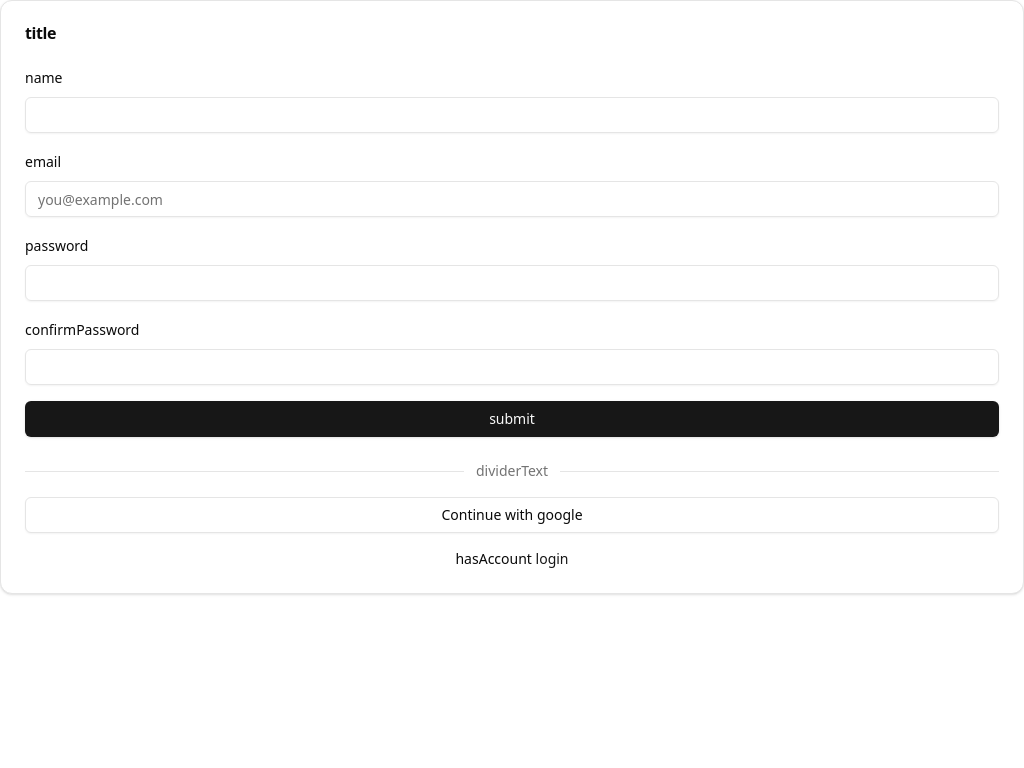
Test case: RegisterForm › shows error when passwords do not match
The image size is (1024, 768).
Type "user@example.com" into the field labelled "email" at (512, 199), box 25,181 -> 999,217
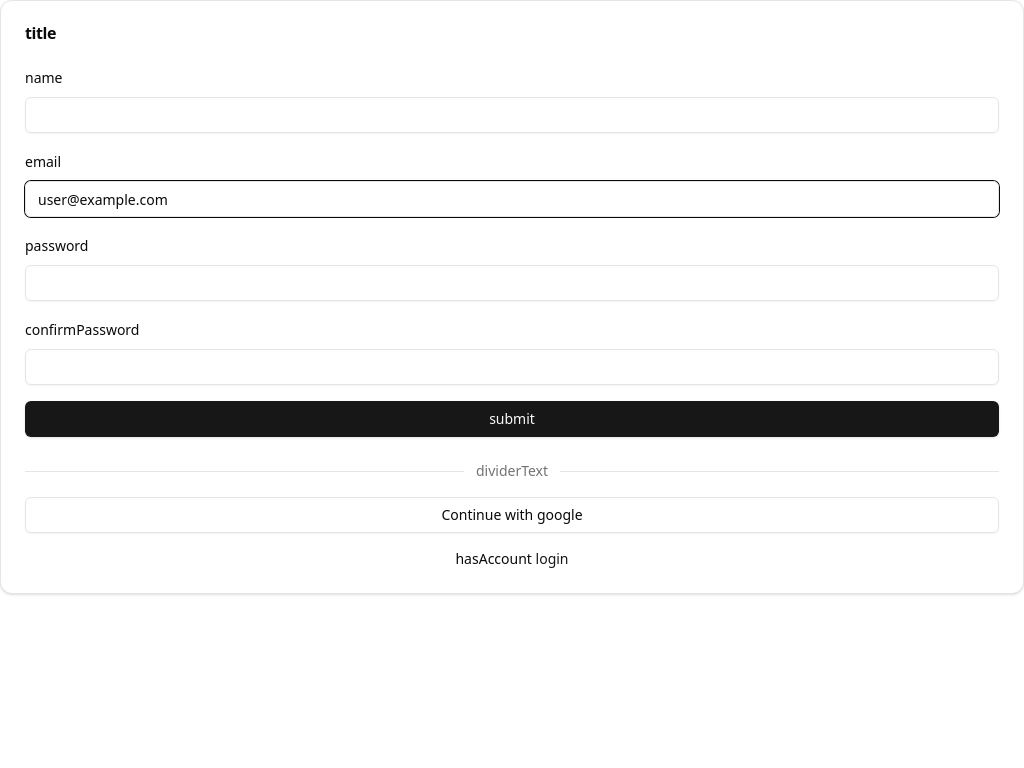
Type "StrongPass1!" into the password field labelled "password" at (512, 283), box 25,265 -> 999,301
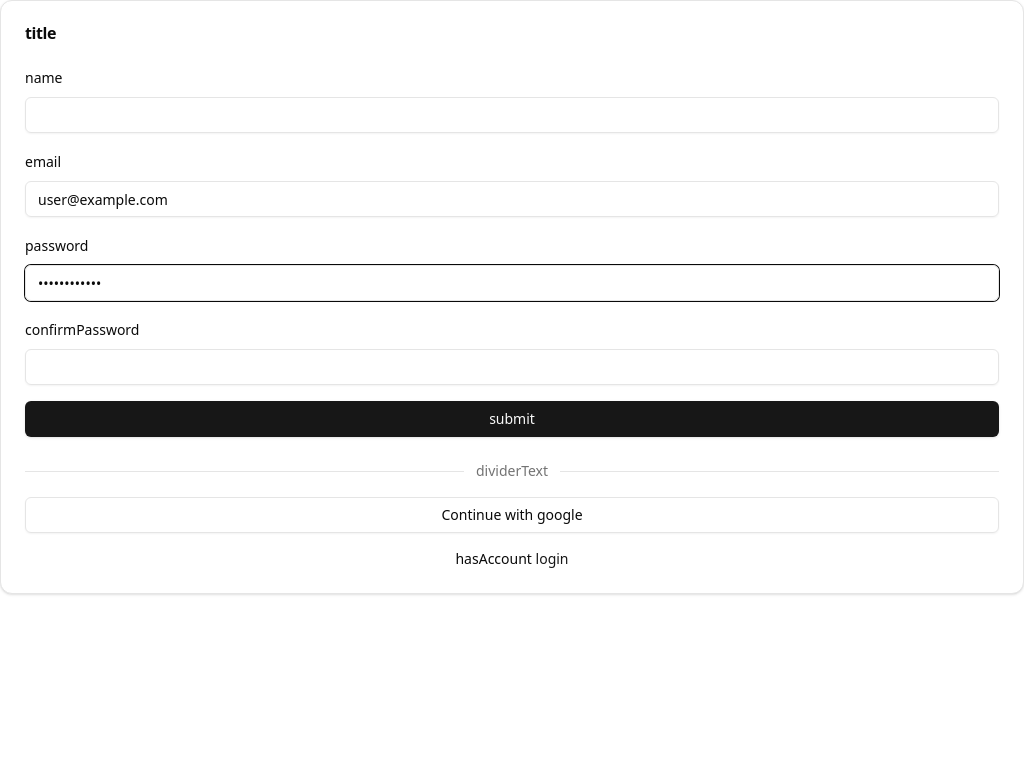
Type "Different1!" into the password field labelled "confirmPassword" at (512, 367), box 25,349 -> 999,385
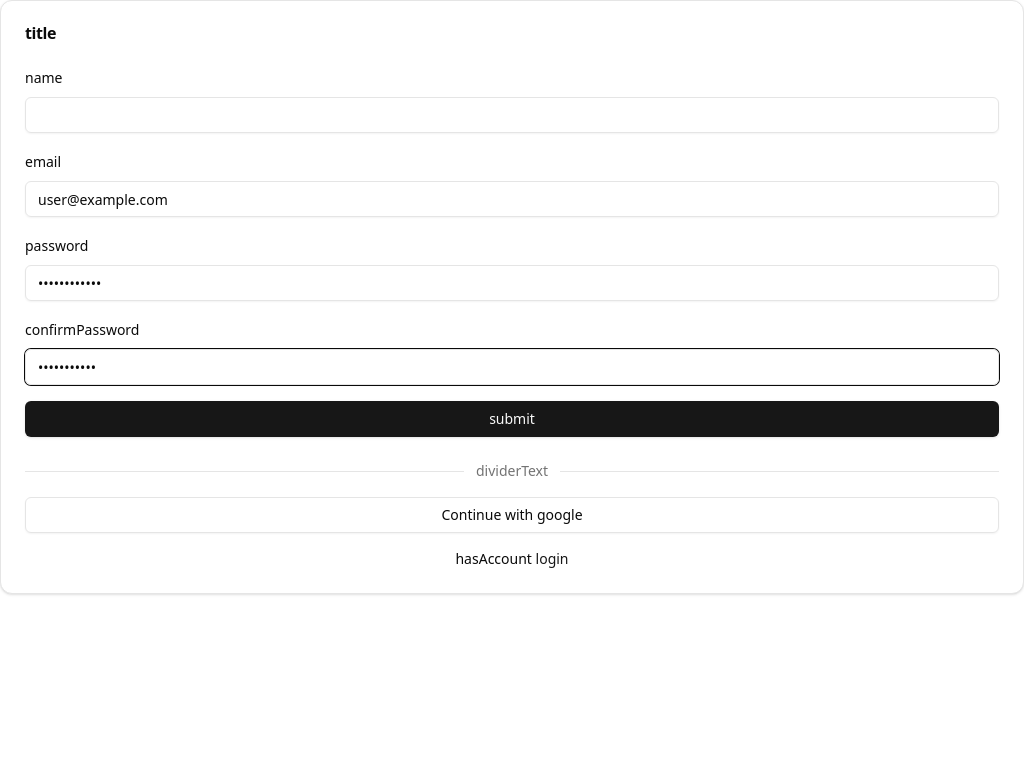
Click the button "submit" at (512, 419), box 25,401 -> 999,437
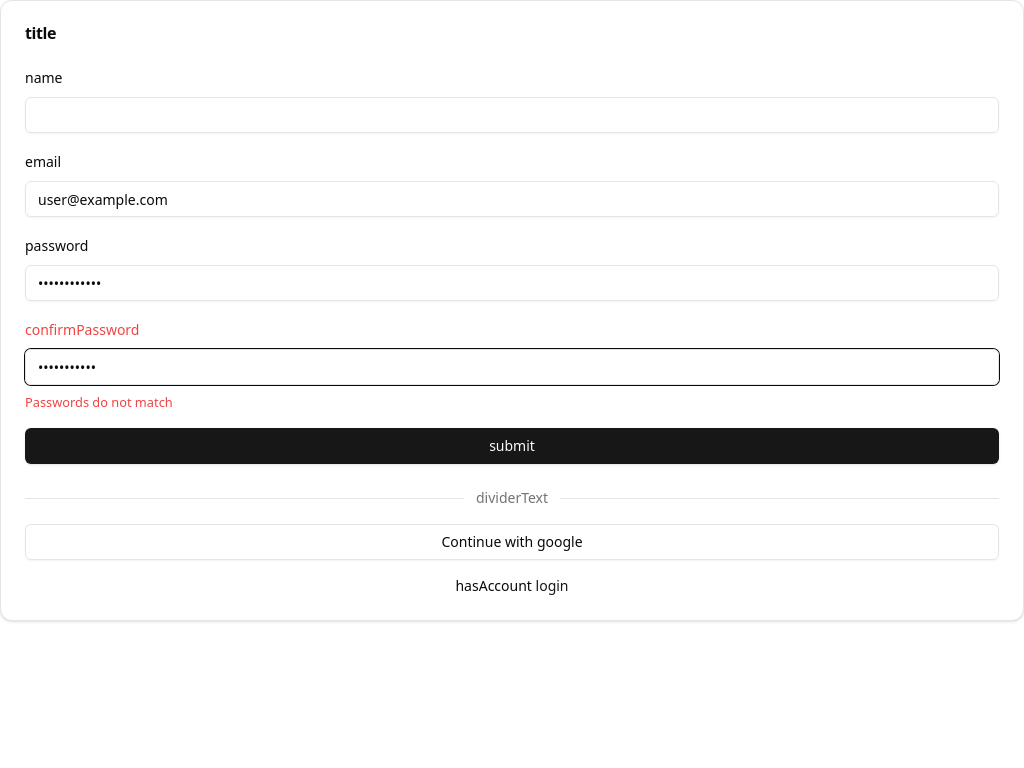
Now the text "Passwords do not match" is shown, box 25,393 -> 173,411
